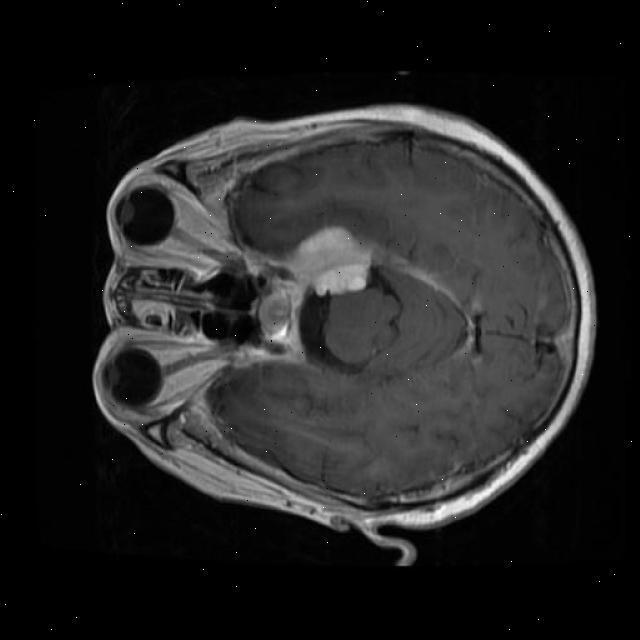Meningioma: (286, 227, 372, 295)
